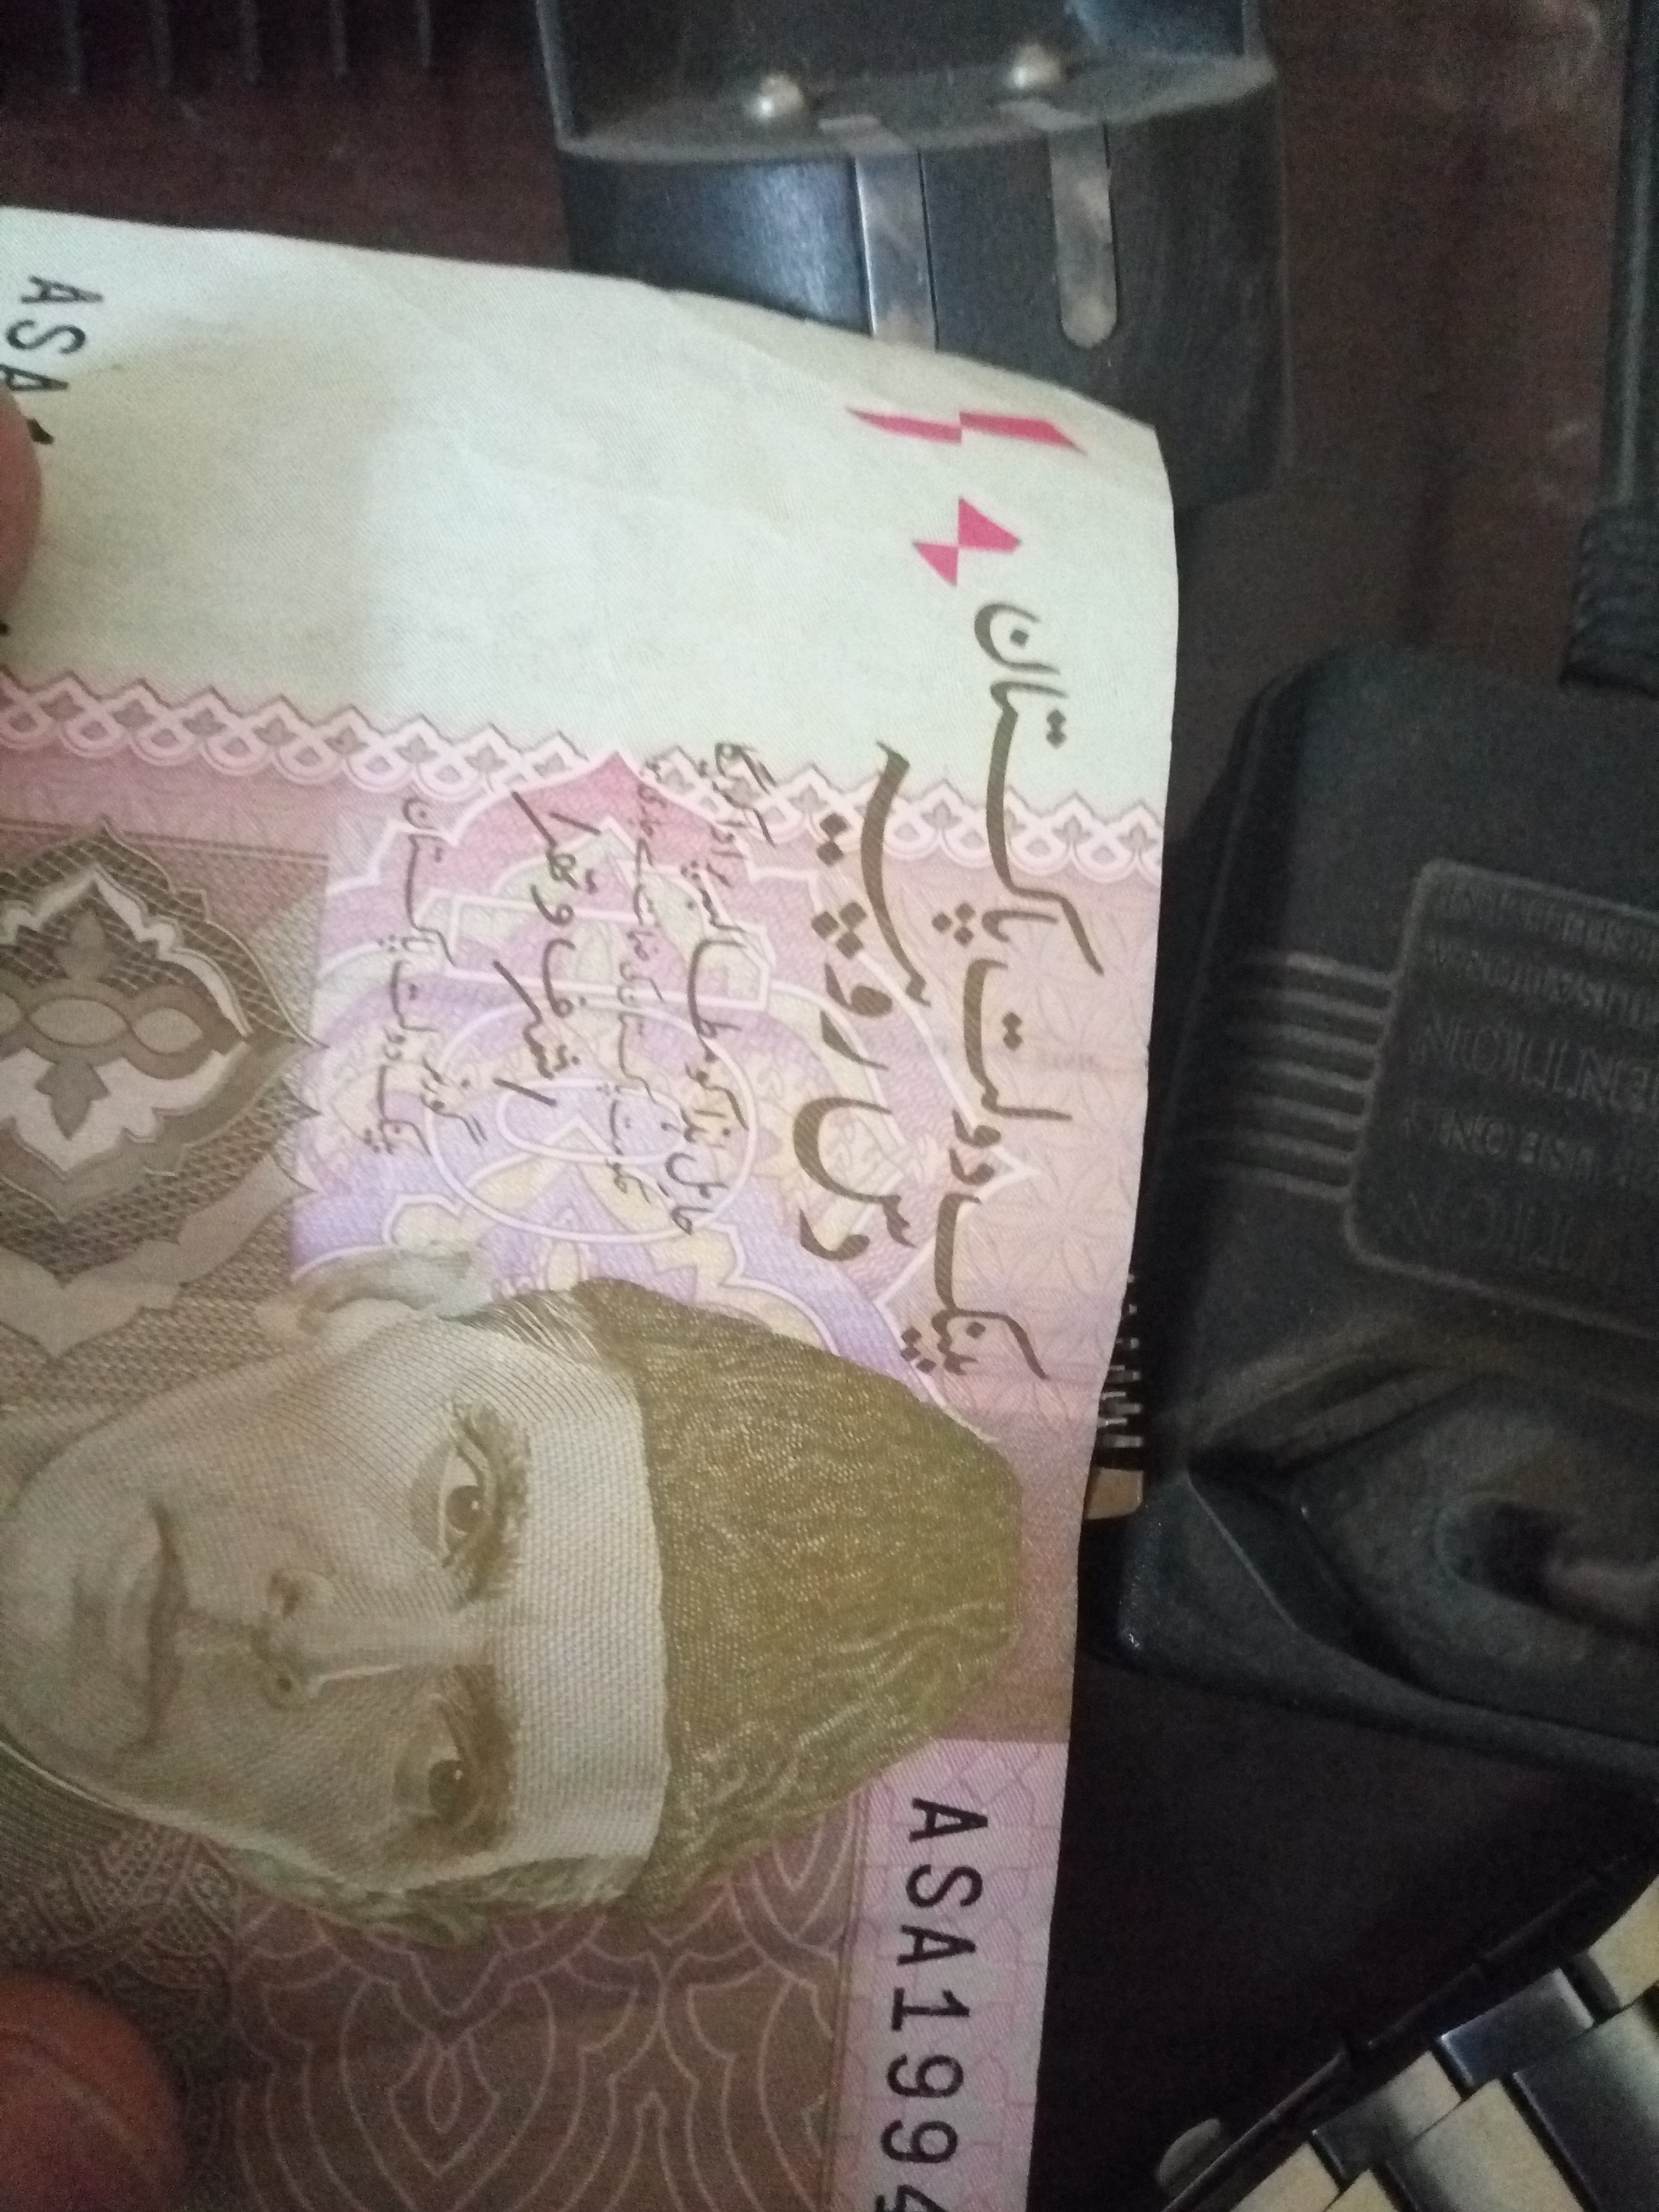10 rupee: (10, 141, 1154, 2170)
